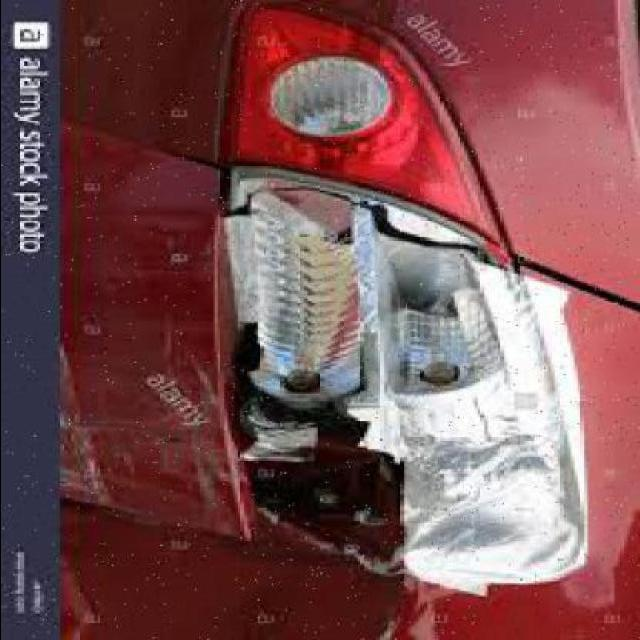Headlight-Damage: (197, 179, 594, 599)
